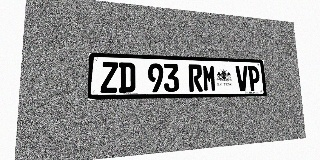3: (164, 64, 179, 92)
9: (148, 63, 164, 92)
D: (119, 62, 135, 93)
M: (202, 65, 217, 92)
P: (247, 66, 261, 91)
R: (188, 64, 203, 92)
V: (235, 66, 249, 91)
Z: (100, 62, 118, 93)
